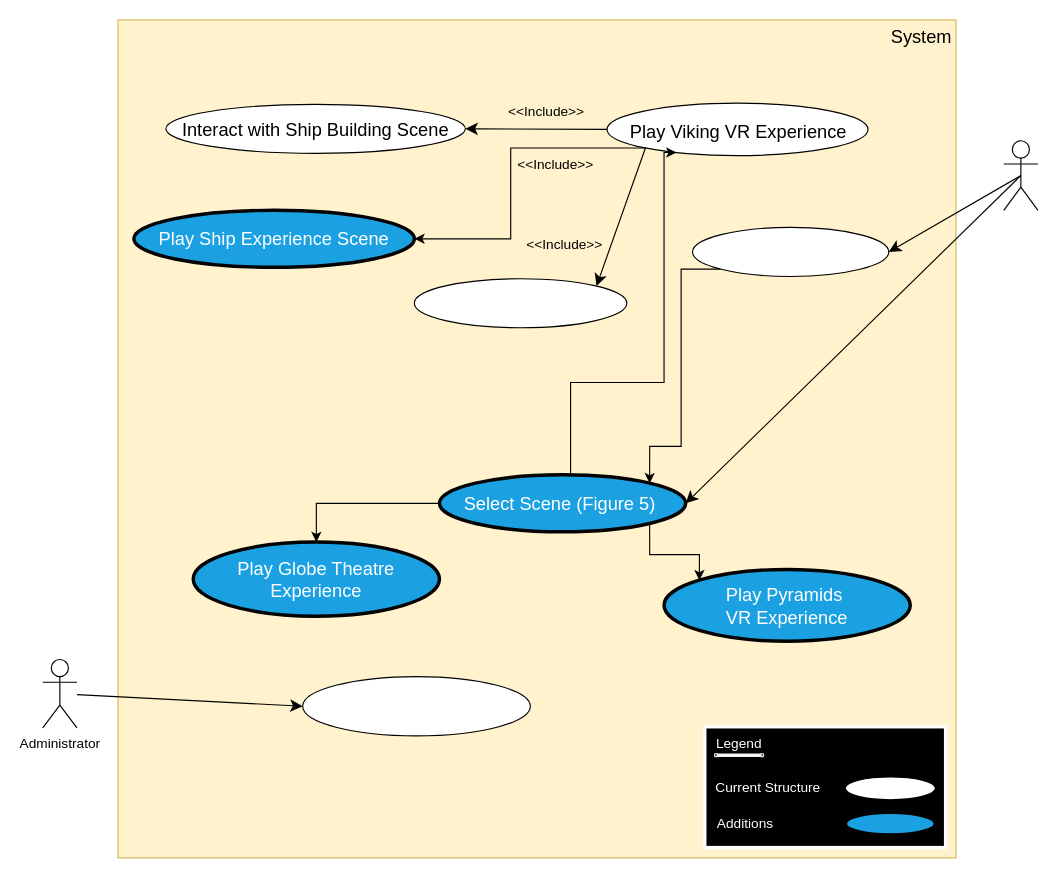
This 1058x878 diagram has some shape labels left out. Here are the shapes that lost their labels. From the top down, the centre of each, then its label:
At point 1020,175: "User".
At point 790,251: "Learn with Tutorial".
At point 520,303: "Play Market Scene".
At point 416,705: "Use Visualization App".
